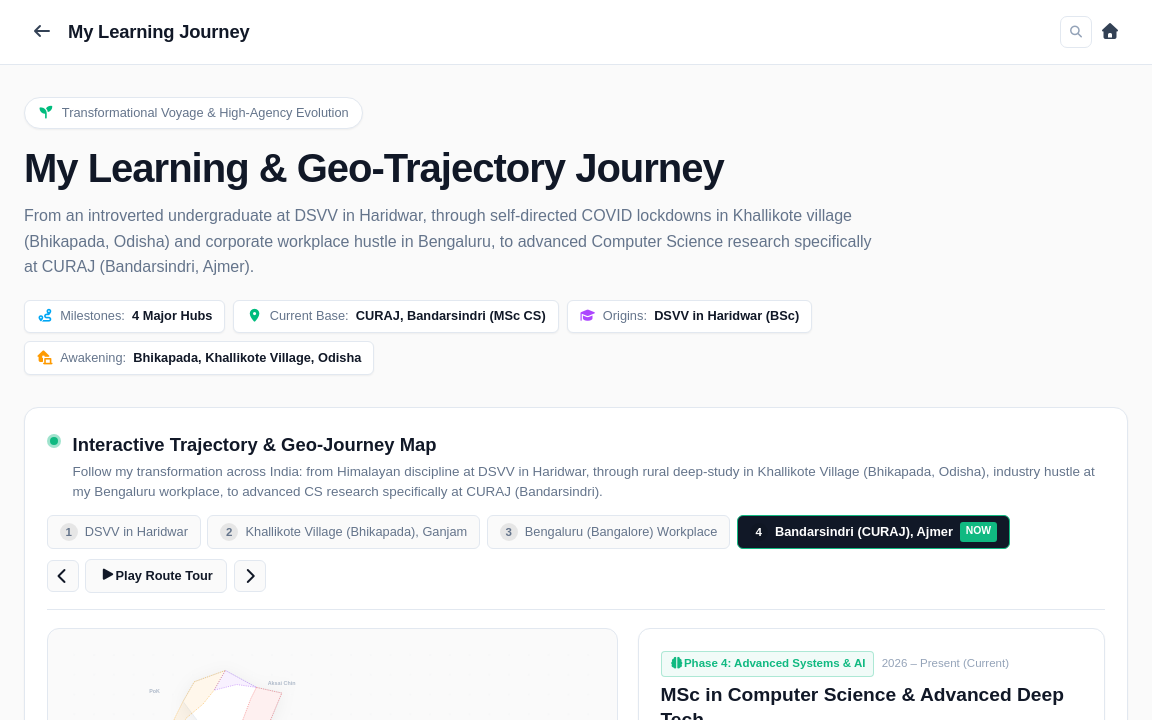
LearningJourneyPage › renders interactive journey map and updates active dossier when a stop is clicked
Expected: the text "Bandarsindri" is shown, [24,207,872,275]
Click the button "1 DSVV in Haridwar".
click(124, 532)  # box [47,515,201,549]
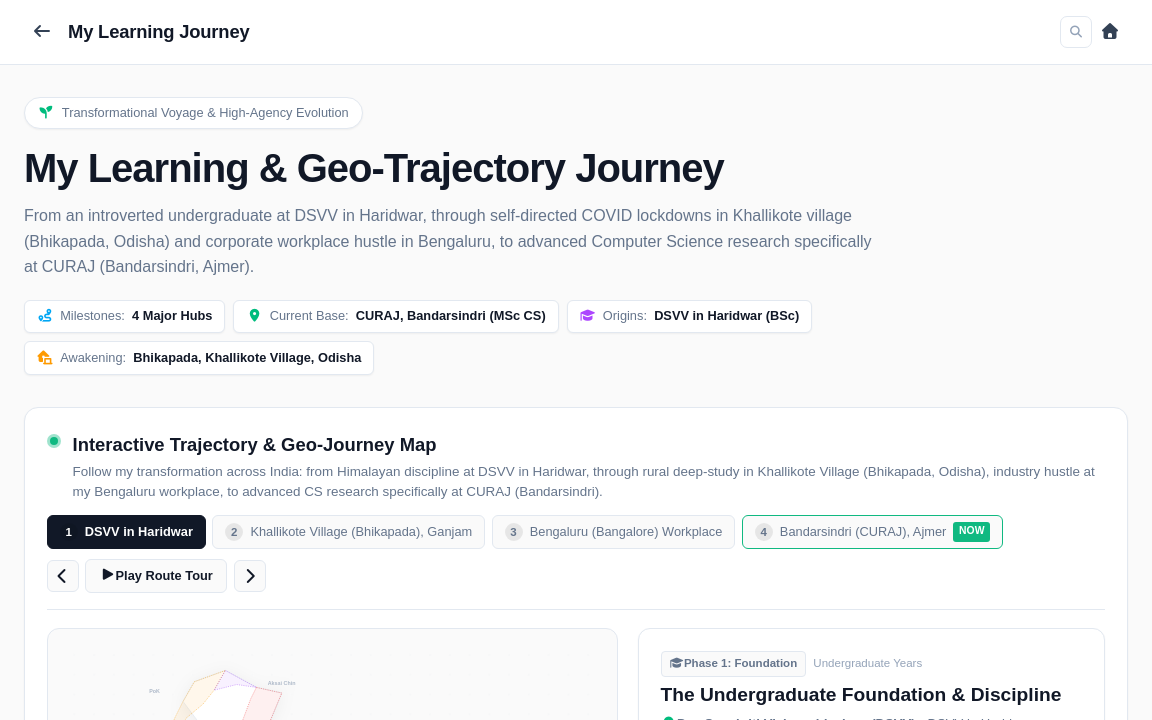
Expected: the heading "The Undergraduate Foundation & Discipline" is shown, [660,683,1083,708]
Click the button "2 Khallikote Village (Bhikapada), Ganjam".
click(349, 532)  # box [212,515,485,549]
(page scrolled)
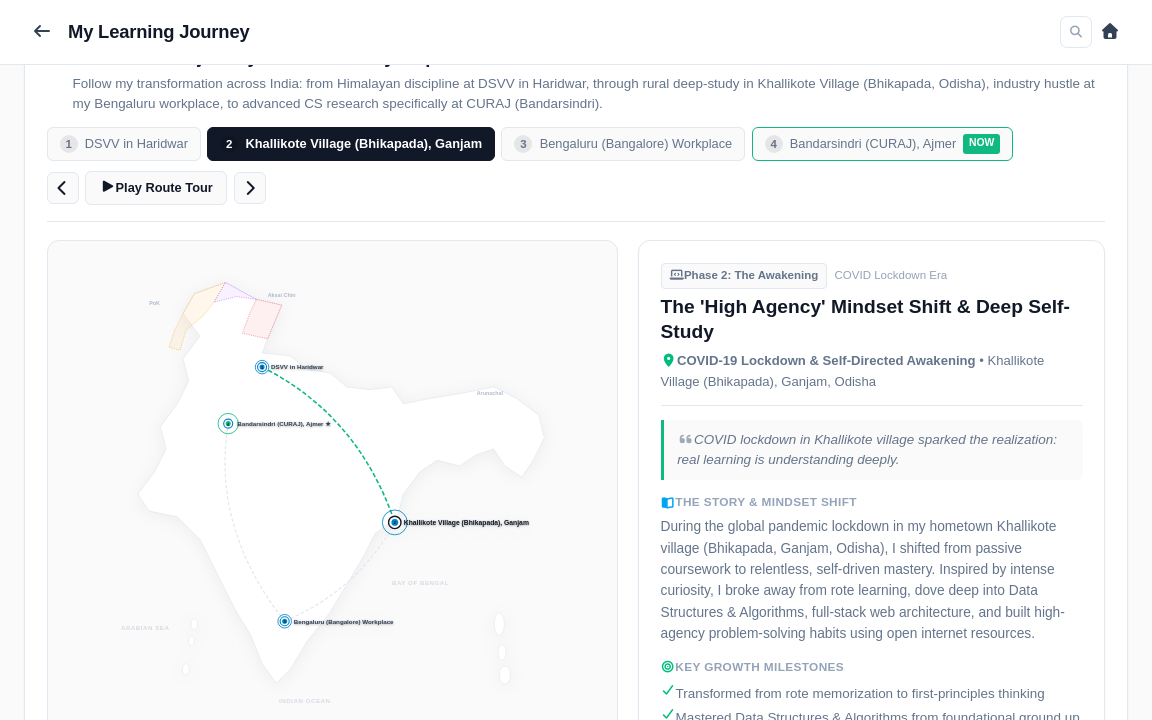
Expected: the heading "The 'High Agency' Mindset Shift & Deep Self-Study" is shown, [660,295,1083,345]
Expected: the text "COVID-19 Lockdown & Self-Directed Awakening" is shown, [677,353,976,368]
